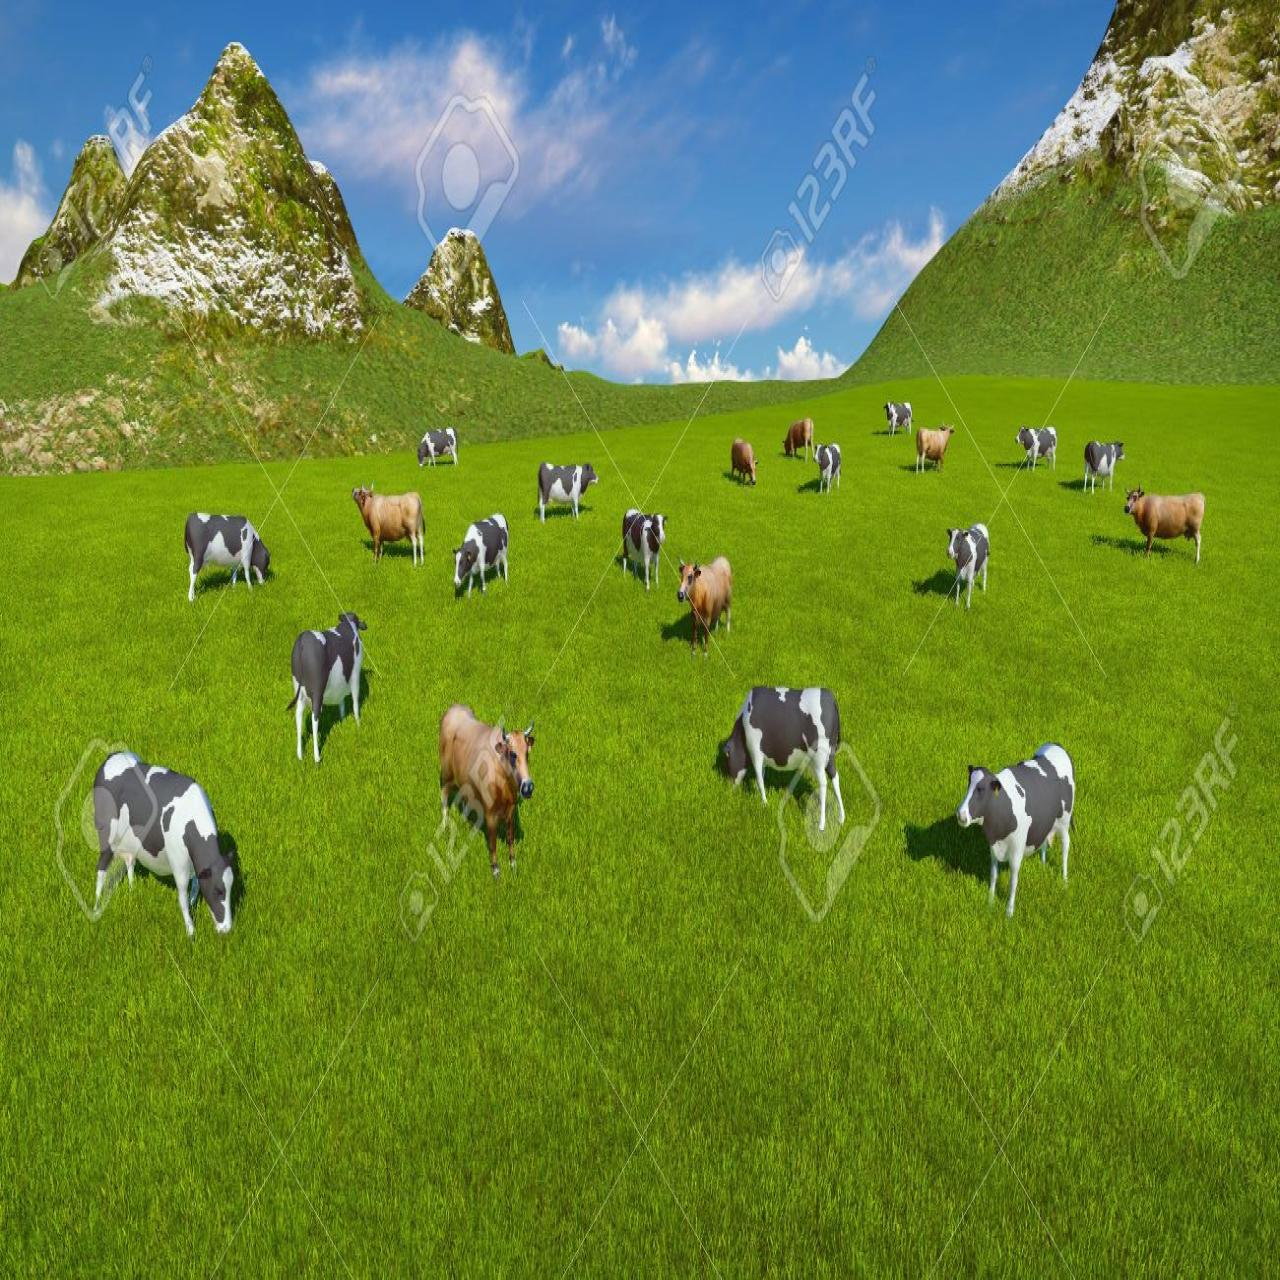cow: (66, 733, 257, 959), (921, 731, 1096, 937), (709, 666, 857, 835), (422, 683, 542, 869), (278, 604, 375, 775), (172, 489, 286, 618), (1121, 479, 1216, 566), (347, 478, 427, 567), (450, 503, 516, 600), (674, 551, 738, 640), (946, 519, 996, 602), (619, 502, 670, 583), (533, 455, 594, 520), (1081, 436, 1130, 496), (1017, 418, 1062, 471), (913, 424, 952, 471), (817, 437, 849, 493), (726, 433, 757, 488), (779, 414, 815, 461), (884, 396, 917, 437)
